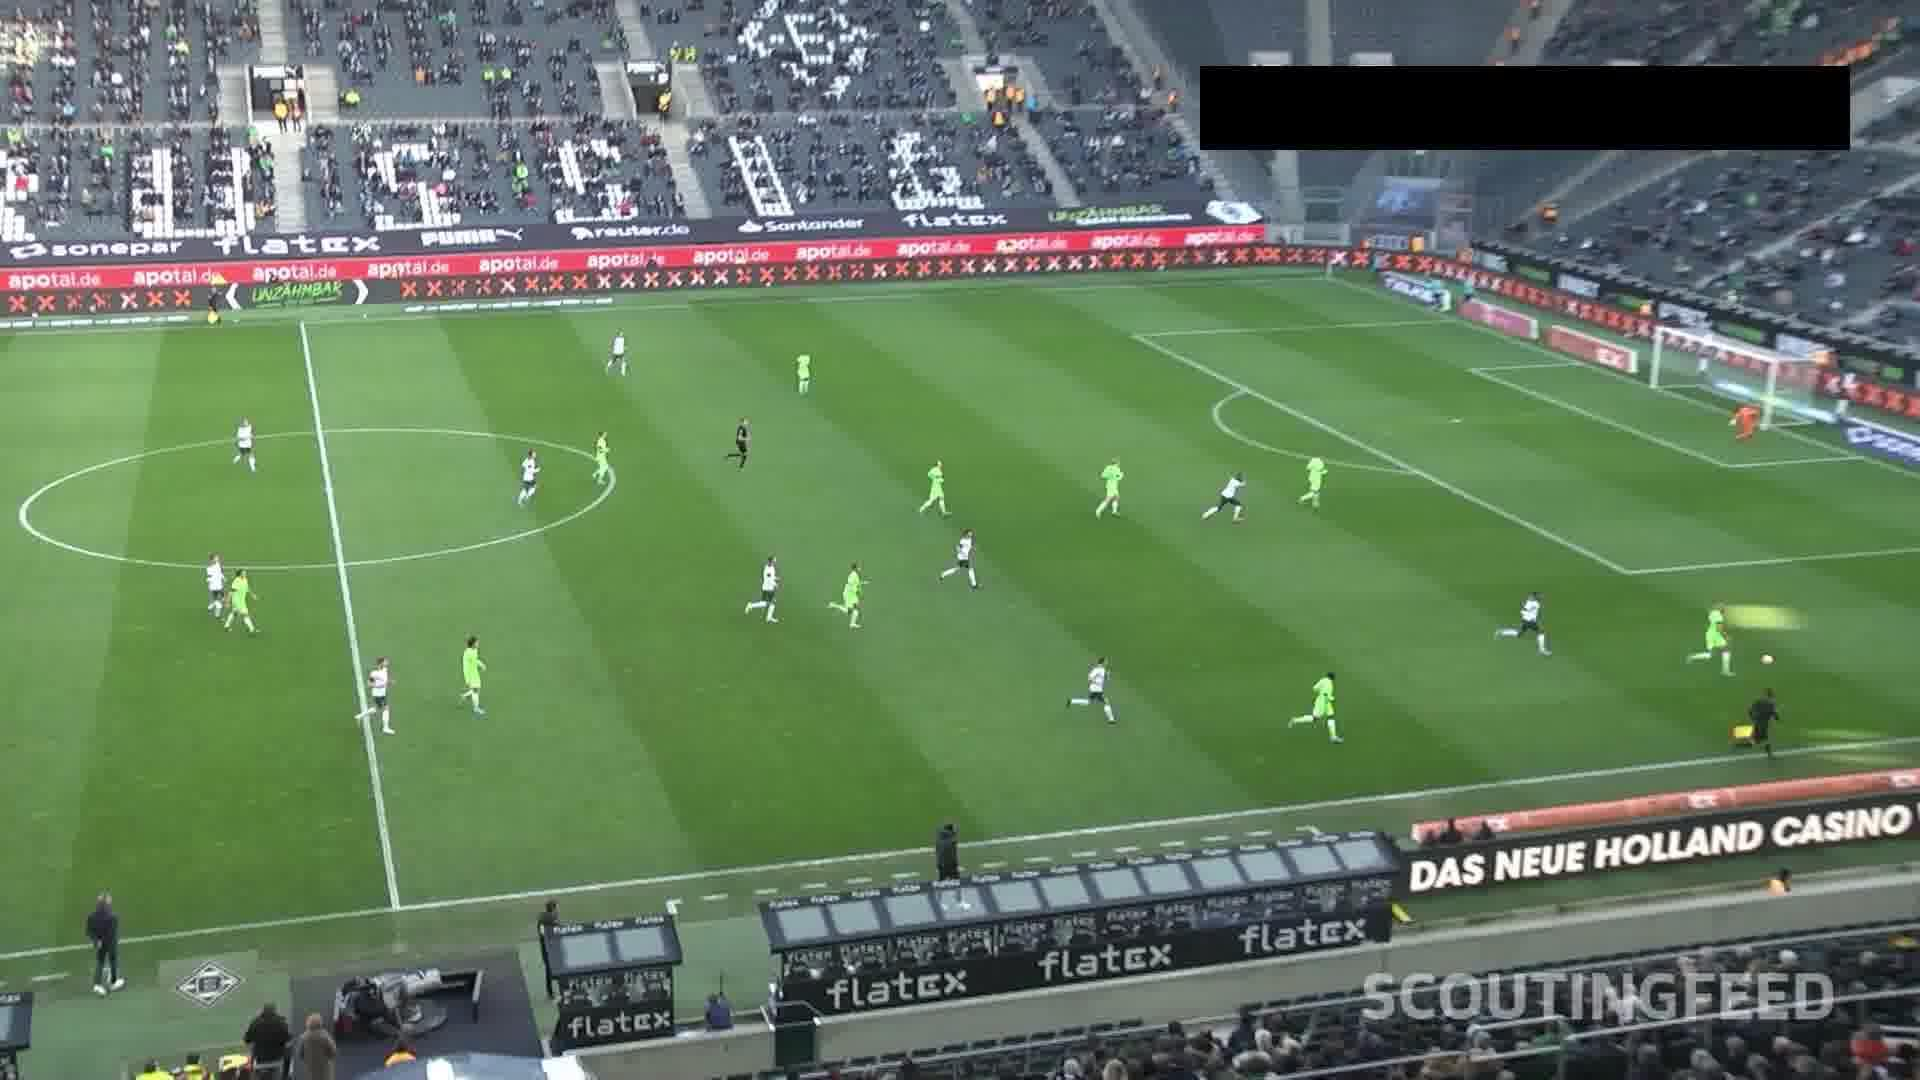football: (1760, 651, 1776, 665)
